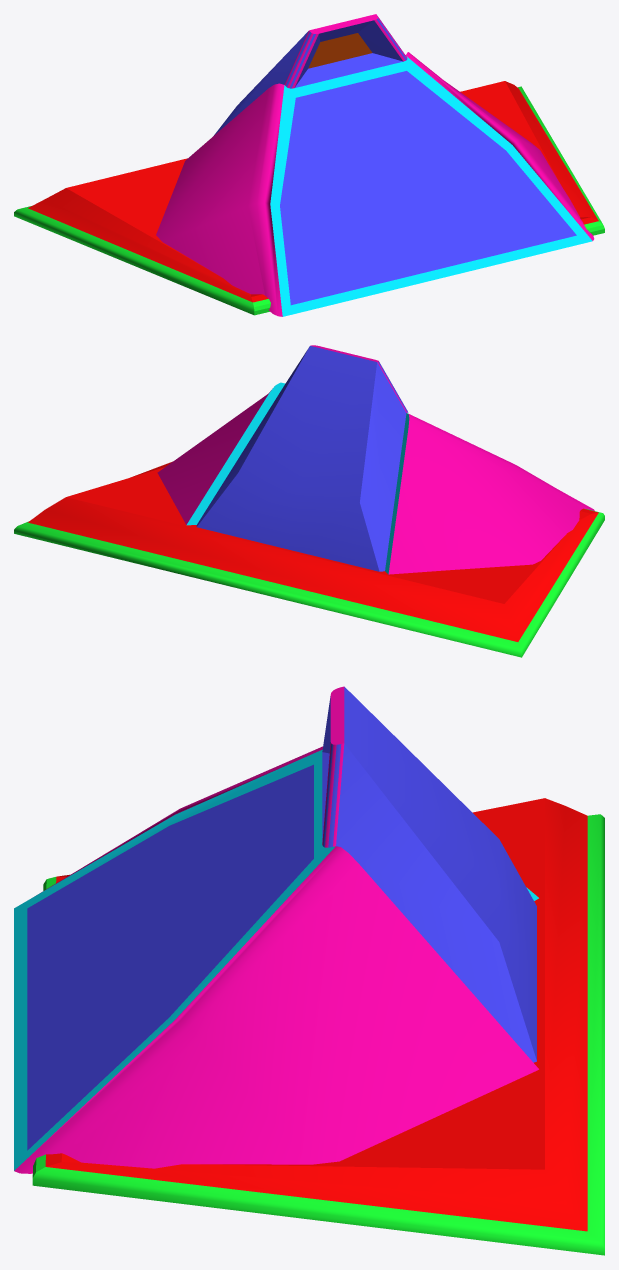
The model's file is Progeny Jump Pad.FBX.
3 renders of one model, top to bottom at view 1: azimuth 30°, elevation 25°; view 2: azimuth 150°, elevation 25°; view 3: azimuth 270°, elevation 25°, orthographic. The views are drawn at different scales.
Visible parts, largest first — view 1: Gengon001, Box002; view 2: Gengon001, Box002; view 3: Gengon001, Box002.
Part boxes in pixels (left/top/right/bottom): Gengon001: left=156, top=14, right=594, bottom=316; Box002: left=14, top=81, right=604, bottom=315; Gengon001: left=157, top=345, right=594, bottom=574; Box002: left=14, top=461, right=604, bottom=657; Gengon001: left=14, top=686, right=538, bottom=1173; Box002: left=32, top=798, right=604, bottom=1255.
Bounding box in the file's own units: 5.66 × 1.99 × 3.29.
